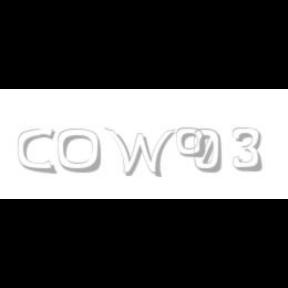0: (194, 128, 224, 174)
3: (233, 128, 264, 172)
C: (18, 128, 55, 174)
O: (58, 128, 102, 174)
W: (104, 128, 176, 178)
o: (176, 128, 206, 158)
